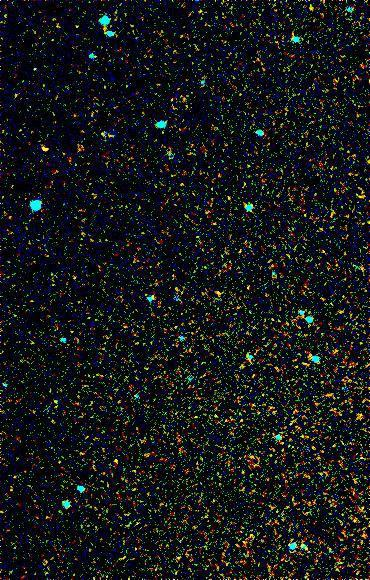star: (29, 135, 59, 165)
